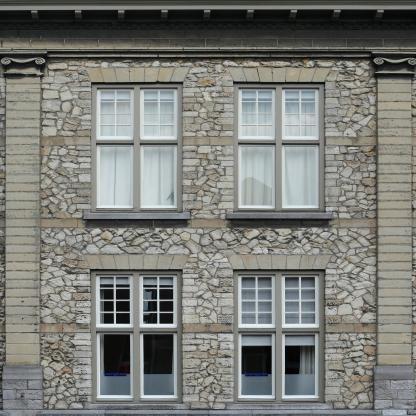Building Outline: (1, 1, 416, 416)
Cornice: (225, 255, 333, 270), (83, 255, 189, 270), (85, 68, 190, 82), (228, 68, 331, 82)
Facade: (1, 1, 416, 416)
Floor: (1, 29, 416, 252), (1, 258, 416, 416)
Floor Slab: (1, 252, 416, 258)
Molding: (0, 9, 416, 29)
Pillar: (0, 51, 48, 416), (372, 51, 416, 416)
Window: (234, 270, 325, 404), (92, 270, 183, 404), (234, 82, 325, 212), (92, 82, 183, 212)
